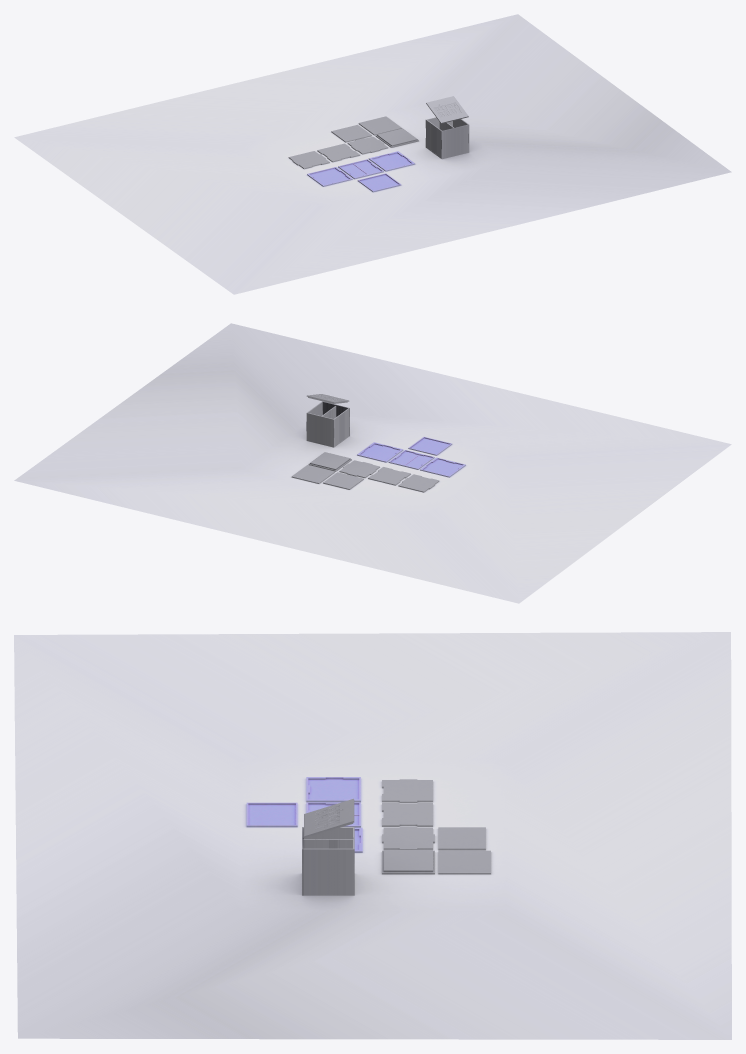
File: betonformenGLTF.gltf
3 renders of one model, top to bottom at view 1: azimuth 30°, elevation 25°; view 2: azimuth 150°, elevation 25°; view 3: azimuth 270°, elevation 25°, orthographic. The views are drawn at different scales.
Parts seen in each view (by area): view 1: c; view 2: c; view 3: c.
Boxes of the visible parts, x1,y1,x2,y2 form: c: (14,14,731,294); c: (14,323,731,603); c: (14,632,731,1039).
Bounding box in the file's own units: 27.44 × 2.38 × 20.41.
1 material, 1 textured.
